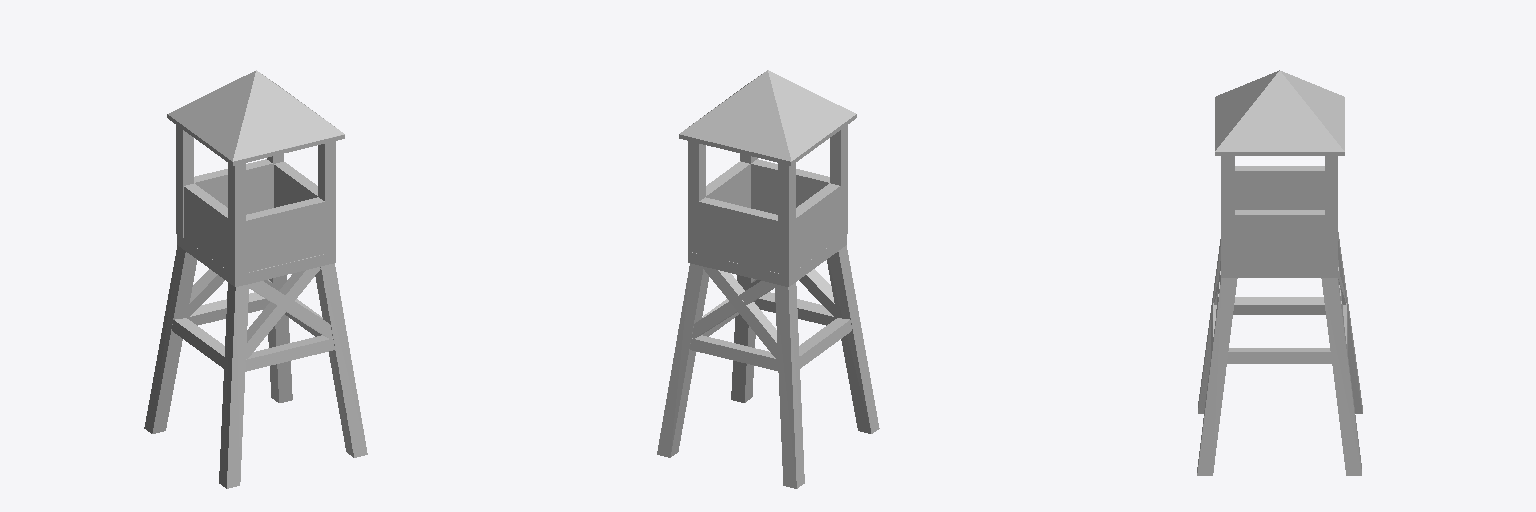
The model's file is Башня лучников 1.obj.
The picture shows the model from 3 angles: view 1: azimuth 30°, elevation 25°; view 2: azimuth 150°, elevation 25°; view 3: azimuth 270°, elevation 25°; orthographic projection.
Visible parts, largest first — view 1: Куб.009_Куб.013, Куб.001, Cube.004_Cube.006, Cube.003_Cube.005, Cube.001, Куб.004_Куб.005, Куб.002_Куб.006, Куб.005_Куб.007, Куб, Куб.006_Куб.010, Куб.016_Куб.020, Куб.010_Куб.014 (+9 smaller); view 2: Куб.009_Куб.013, Куб.002_Куб.006, Cube.003_Cube.005, Cube.002_Cube.004, Cube.004_Cube.006, Куб.004_Куб.005, Куб.001, Куб.007_Куб.011, Куб, Куб.014_Куб.018, Куб.008_Куб.012, Куб.011_Куб.015 (+8 smaller); view 3: Куб.009_Куб.013, Куб.003_Куб.009, Куб.004_Куб.005, Cube.002_Cube.004, Cube.001, Куб.012_Куб.016, Куб.013_Куб.017, Куб.006_Куб.010, Куб.008_Куб.012, Куб, Cube.003_Cube.005, Cube.004_Cube.006.
Part boxes in pixels (x1,y1,x2,y2): Куб.009_Куб.013: (168,70,343,161); Куб.001: (246,197,324,272); Cube.004_Cube.006: (219,283,248,488); Cube.003_Cube.005: (144,245,196,433); Cube.001: (321,263,367,457); Куб.004_Куб.005: (184,183,227,269); Куб.002_Куб.006: (194,159,272,214); Куб.005_Куб.007: (228,163,245,275); Куб: (177,234,335,286); Куб.006_Куб.010: (318,141,335,253); Куб.016_Куб.020: (246,267,320,358); Куб.010_Куб.014: (245,335,334,371); Куб.009_Куб.013: (680,70,855,161); Куб.002_Куб.006: (699,197,777,272); Cube.003_Cube.005: (775,283,804,488); Cube.002_Cube.004: (657,263,708,457); Cube.004_Cube.006: (827,245,879,433); Куб.004_Куб.005: (796,183,840,269); Куб.001: (751,159,829,214); Куб.007_Куб.011: (778,163,795,275); Куб: (688,234,846,286); Куб.014_Куб.018: (704,267,777,358); Куб.008_Куб.012: (688,141,705,253); Куб.011_Куб.015: (690,335,777,370); Куб.009_Куб.013: (1215,70,1344,151); Куб.003_Куб.009: (1234,210,1325,266); Куб.004_Куб.005: (1235,166,1324,209); Cube.002_Cube.004: (1321,278,1361,475); Cube.001: (1197,278,1236,475); Куб.012_Куб.016: (1227,348,1332,363); Куб.013_Куб.017: (1233,297,1325,314); Куб.006_Куб.010: (1221,156,1234,266); Куб.008_Куб.012: (1325,156,1337,266); Куб: (1221,267,1337,277); Cube.003_Cube.005: (1338,232,1362,413); Cube.004_Cube.006: (1198,239,1220,413).
Size of the model in its own units: 4.18 by 10.54 by 4.26.